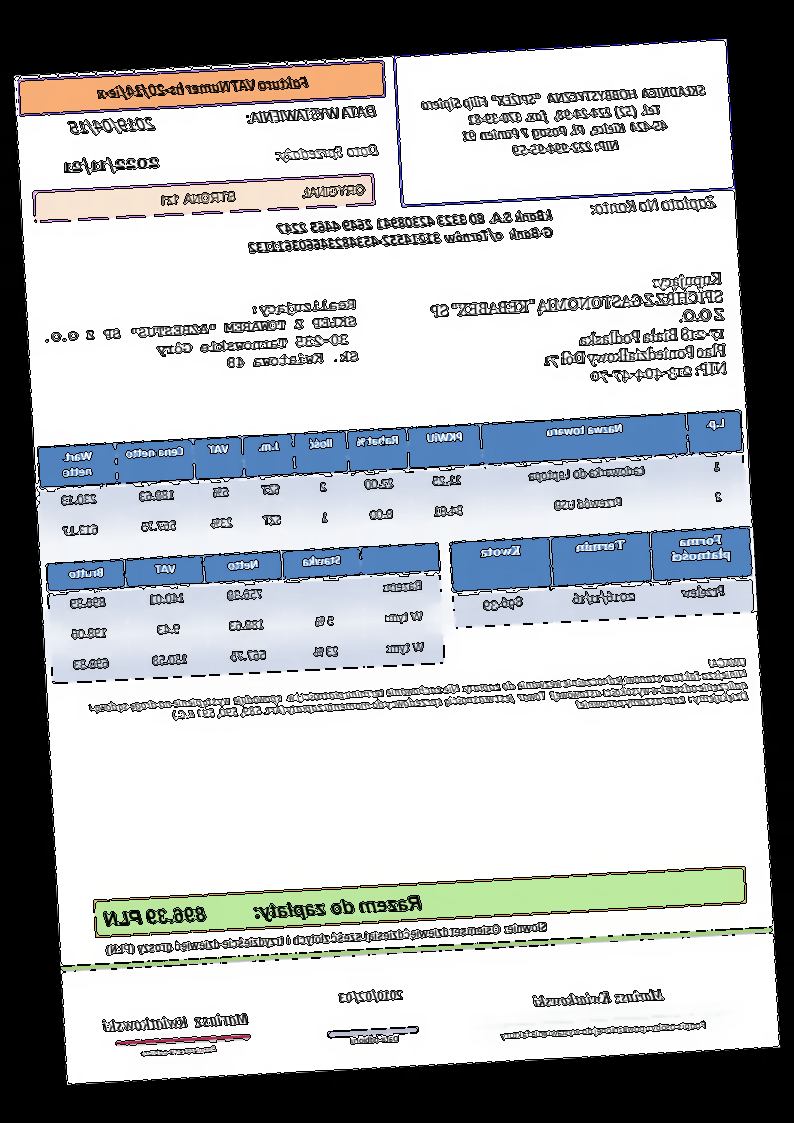Table: (35, 408, 749, 554), (46, 540, 447, 685), (450, 524, 756, 629)
TextBox: (84, 653, 751, 739), (424, 266, 733, 394), (43, 294, 363, 382), (419, 81, 710, 162), (101, 916, 550, 960), (245, 205, 557, 255), (100, 889, 425, 933), (96, 73, 311, 103), (498, 1015, 710, 1045), (157, 180, 368, 209), (97, 1009, 251, 1037), (530, 983, 667, 1011), (587, 192, 721, 218), (244, 101, 378, 126), (273, 139, 381, 166), (62, 152, 163, 179), (66, 113, 159, 138), (138, 1041, 219, 1062), (337, 985, 407, 1008), (348, 1031, 402, 1047)
